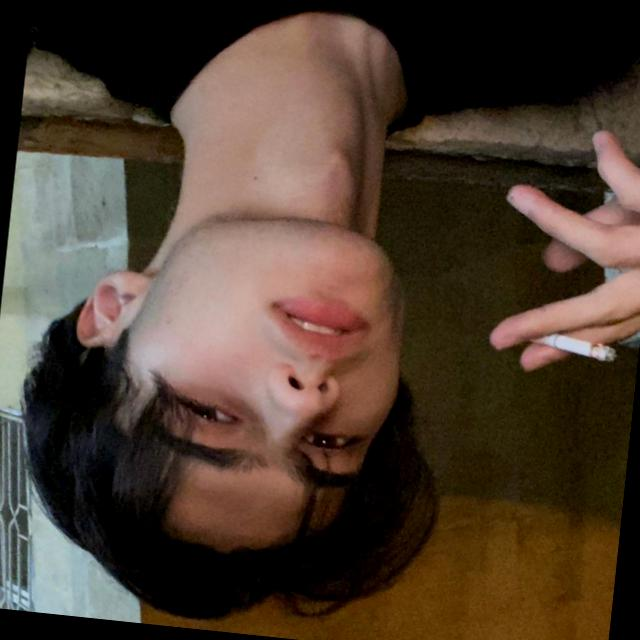cigarette: (502, 314, 628, 376)
